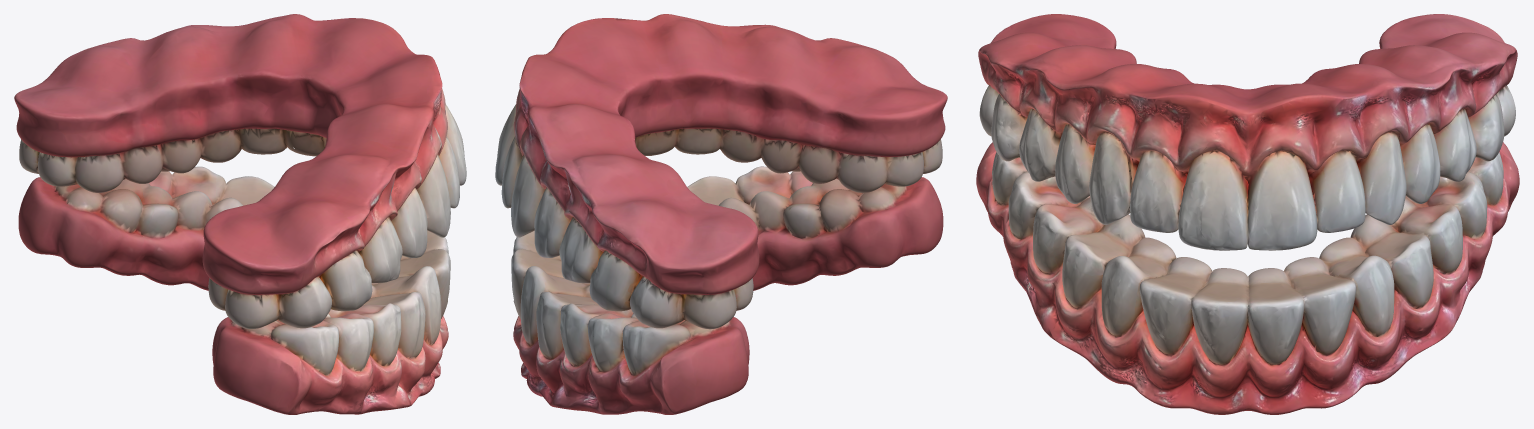
Rendered from hero.glb.
3 renders of one model, left to right at view 1: azimuth 30°, elevation 25°; view 2: azimuth 150°, elevation 25°; view 3: azimuth 270°, elevation 25°, orthographic. The views are drawn at different scales.
Parts seen in each view (by area): view 1: tripo_node_0a3d4a67-f75d-450b-8362-bca321614f90; view 2: tripo_node_0a3d4a67-f75d-450b-8362-bca321614f90; view 3: tripo_node_0a3d4a67-f75d-450b-8362-bca321614f90.
Boxes of the visible parts, x1,y1,x2,y2 form: tripo_node_0a3d4a67-f75d-450b-8362-bca321614f90: (14, 14, 466, 414); tripo_node_0a3d4a67-f75d-450b-8362-bca321614f90: (495, 14, 947, 414); tripo_node_0a3d4a67-f75d-450b-8362-bca321614f90: (976, 14, 1519, 414).
Size of the model in its own units: 0.7159 by 0.6316 by 0.9798.
Materials: 1 (1 with a texture image).
